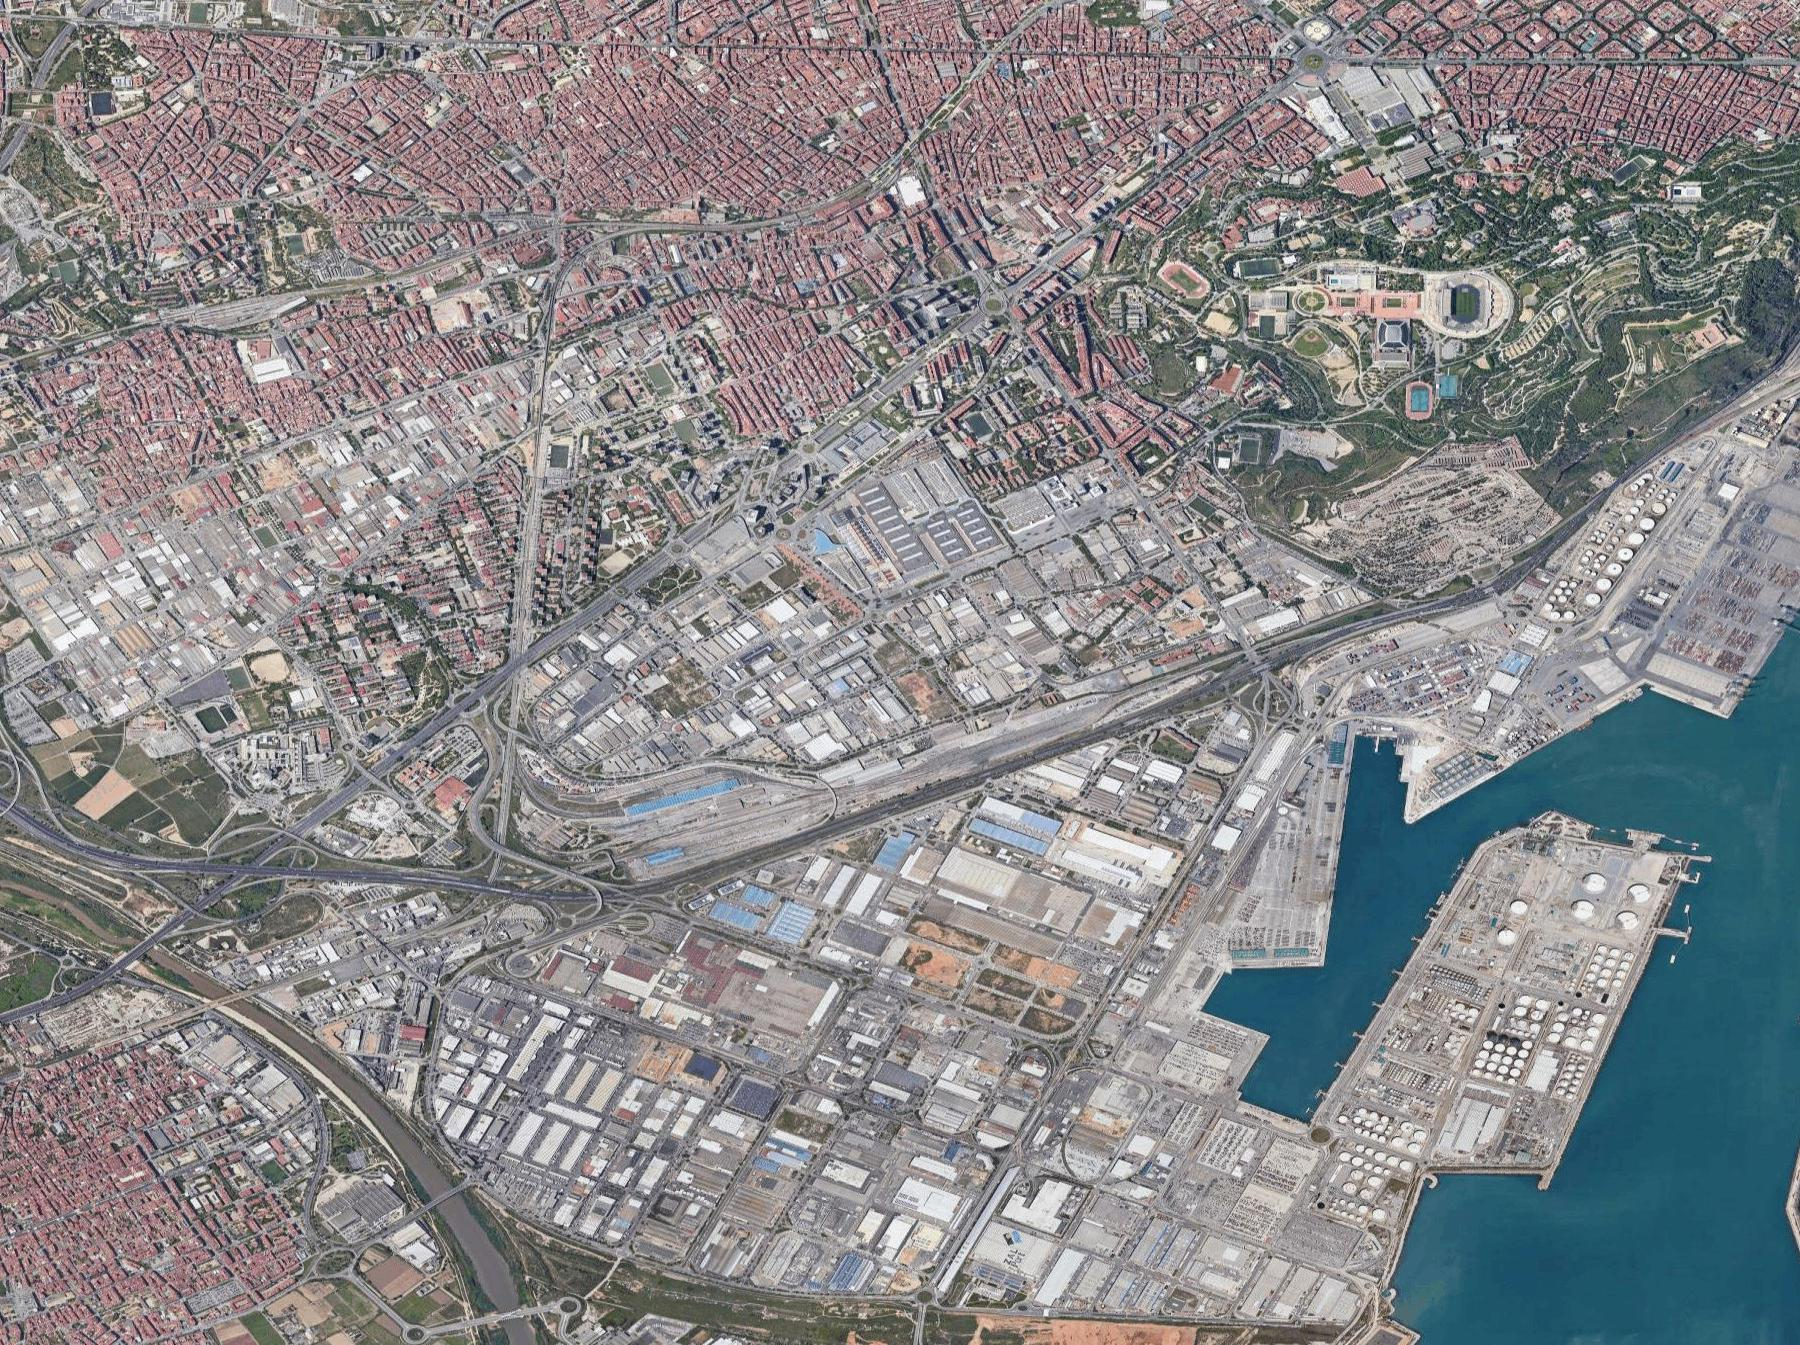harbor: (1139, 475, 1800, 1345)
industrial: (622, 485, 1113, 769)
motorway: (251, 711, 437, 866), (599, 841, 818, 959), (1046, 648, 1260, 762), (803, 750, 1043, 848), (438, 593, 610, 725), (251, 848, 554, 914), (95, 859, 251, 983), (1, 770, 157, 894), (1250, 583, 1482, 658)
train_station: (572, 747, 819, 880)
